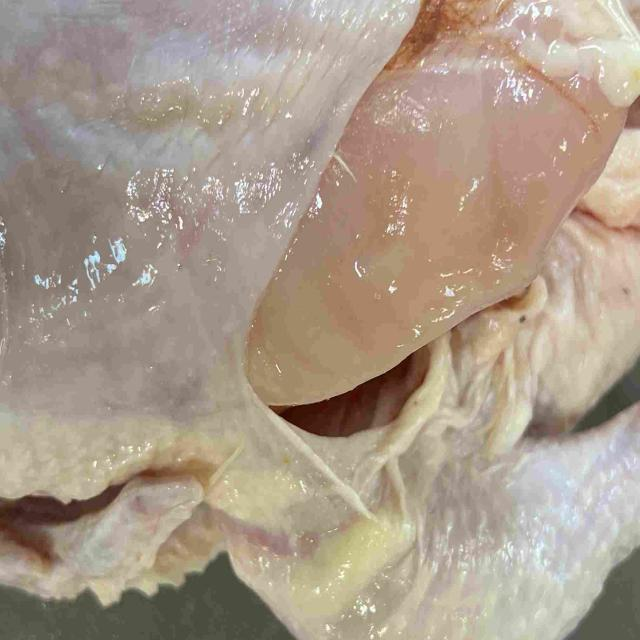leg: (227, 399, 640, 640)
